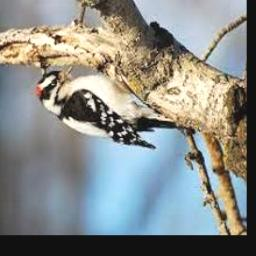Woodpecker: (37, 64, 195, 148)
